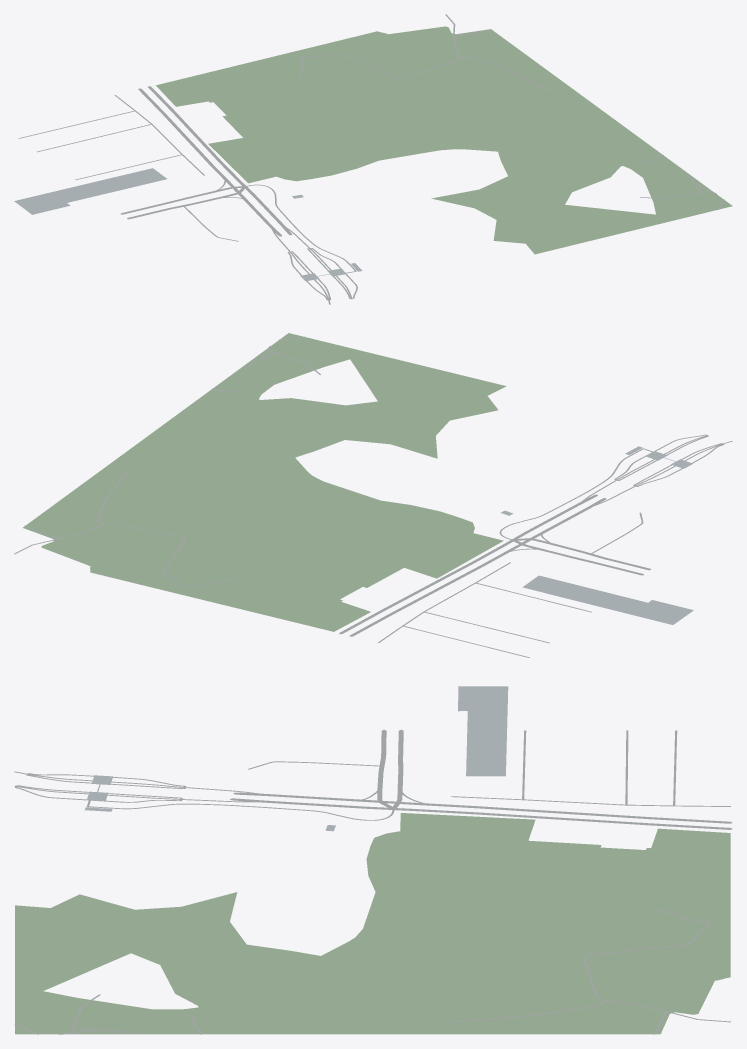
Rendered from -17_23-known-coarse.glb.
3 views of the same model, one above another, from view 1: azimuth 30°, elevation 25°; view 2: azimuth 150°, elevation 25°; view 3: azimuth 270°, elevation 25° (orthographic). The views are drawn at different scales.
Size of the model in its own units: 1147 by 0.15 by 1000.
